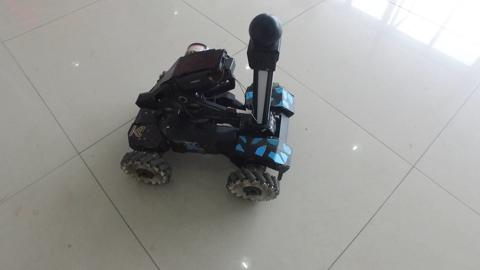chariot: (123, 16, 283, 198)
